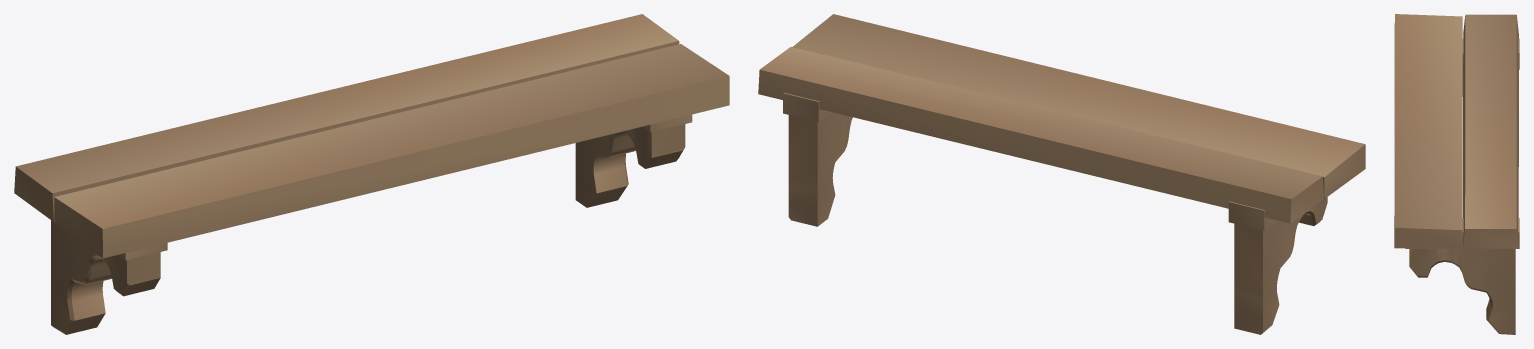
File: Shelf_Simple.glb
3 renders of one model, left to right at view 1: azimuth 30°, elevation 25°; view 2: azimuth 150°, elevation 25°; view 3: azimuth 270°, elevation 25°, orthographic. The views are drawn at different scales.
Parts seen in each view (by area): view 1: Shelf_Simple; view 2: Shelf_Simple; view 3: Shelf_Simple.
Boxes of the visible parts, x1=… form: Shelf_Simple: x1=14, y1=14, x2=729, y2=334; Shelf_Simple: x1=758, y1=14, x2=1365, y2=334; Shelf_Simple: x1=1394, y1=14, x2=1519, y2=334.
Bounding box in the file's own units: 1.18 × 0.3087 × 0.2923.
